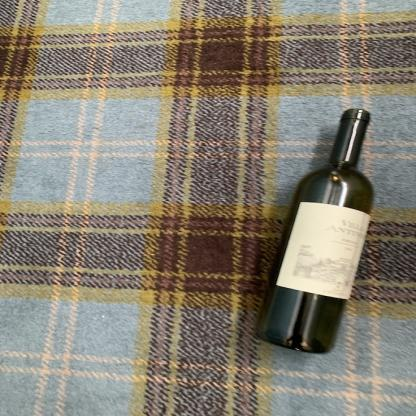trash: (255, 107, 372, 356)
